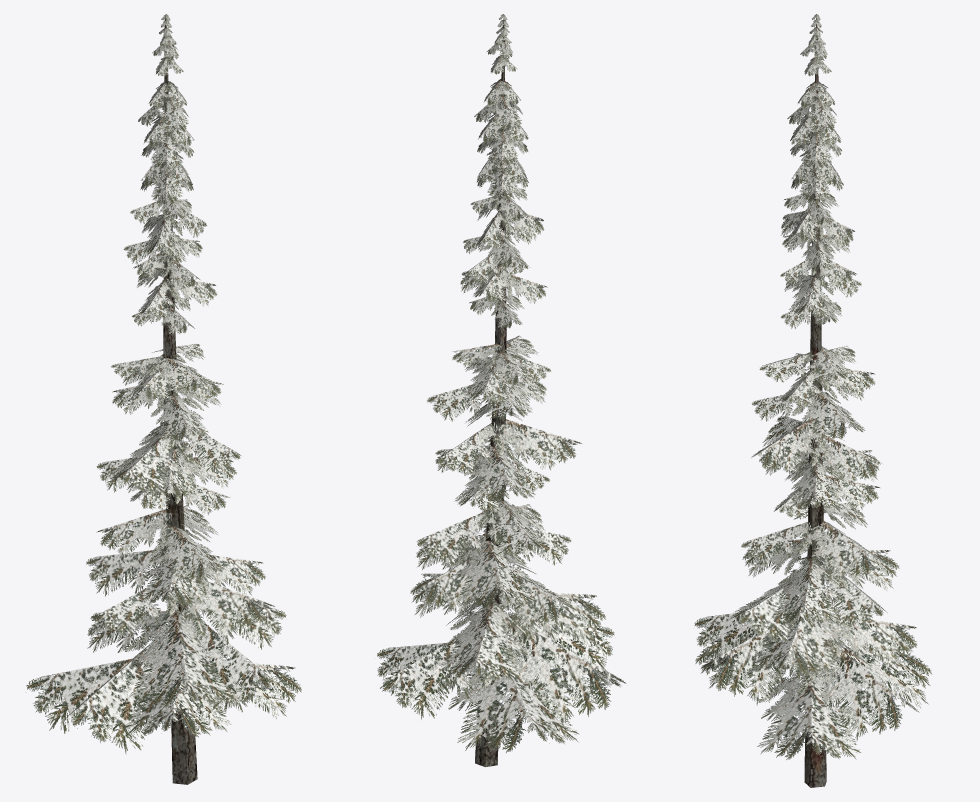
File: abeto_nieve_d.glb
3 renders of one model, left to right at view 1: azimuth 30°, elevation 25°; view 2: azimuth 150°, elevation 25°; view 3: azimuth 270°, elevation 25°, orthographic. The views are drawn at different scales.
Visible parts, largest first — view 1: Modelo; view 2: Modelo; view 3: Modelo.
Part boxes in pixels (left/top/right/bottom): Modelo: left=26, top=14, right=301, bottom=784; Modelo: left=377, top=14, right=626, bottom=767; Modelo: left=694, top=14, right=932, bottom=787.
Size of the model in its own units: 2.76 by 7.74 by 2.72.
1 material, 1 textured.
